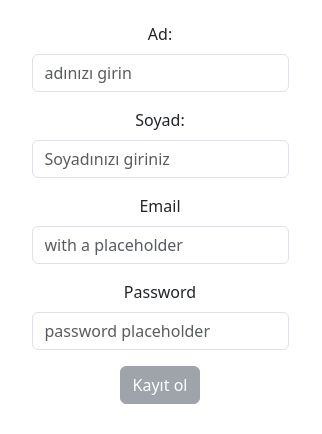
Test case: Register › error messages › email
Type "berksener" into the field with test id "email".
click(161, 245); type("berksener")  # box x1=32 y1=226 x2=289 y2=264
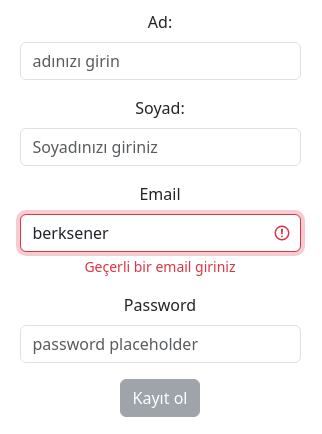
Expected: the text "Geçerli bir email giriniz" is shown, x1=84 y1=256 x2=236 y2=276
